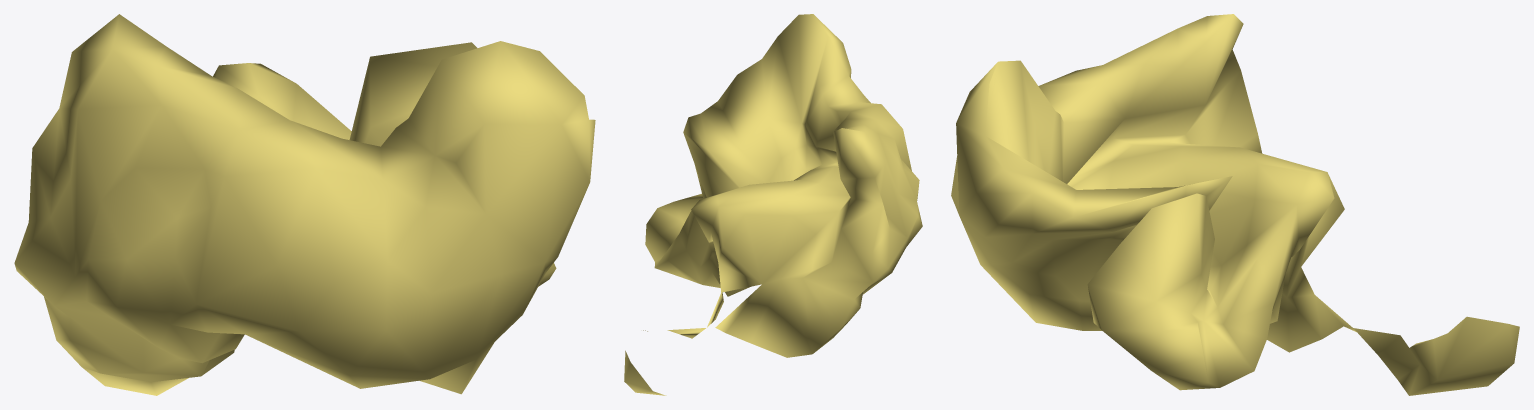
File: temporal-pole-l.glb
The picture shows the model from 3 angles, left to right: view 1: azimuth 30°, elevation 25°; view 2: azimuth 150°, elevation 25°; view 3: azimuth 270°, elevation 25°; orthographic projection. The views are drawn at different scales.
Parts seen in each view (by area): view 1: Temporal pole.l; view 2: Temporal pole.l; view 3: Temporal pole.l.
Boxes of the visible parts, bbox=[...] form: Temporal pole.l: bbox=[14, 14, 595, 395]; Temporal pole.l: bbox=[624, 14, 922, 395]; Temporal pole.l: bbox=[951, 14, 1519, 395].
Size of the model in its own units: 0.0295 by 0.0277 by 0.042.
